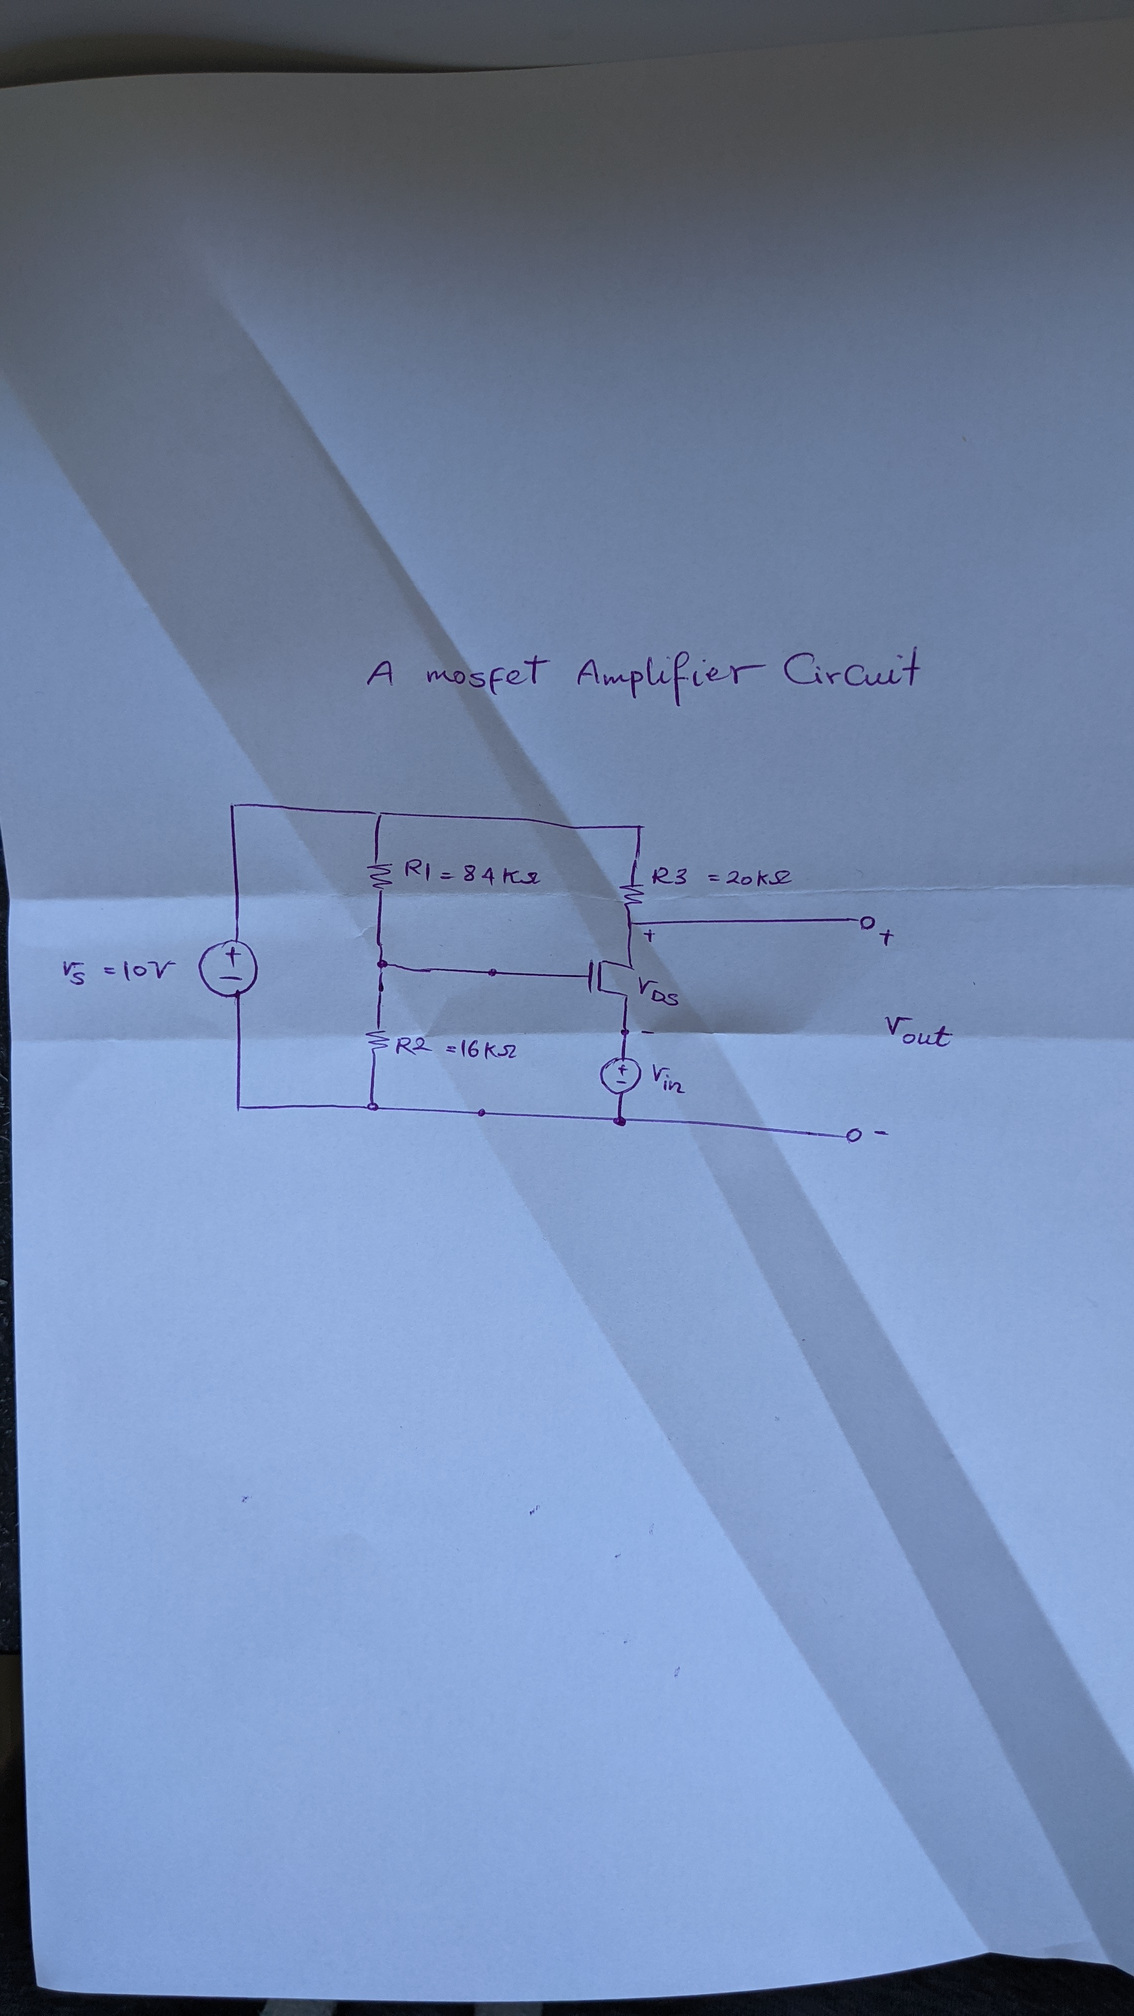junction: (374, 955, 390, 973), (363, 1098, 381, 1115), (611, 1115, 629, 1128), (370, 809, 388, 821), (233, 1101, 246, 1115), (633, 821, 648, 834), (226, 800, 240, 813), (624, 918, 637, 928)
resistor: (366, 858, 397, 894), (363, 1025, 390, 1059), (618, 881, 647, 911)
terminal: (843, 1126, 865, 1145), (854, 912, 876, 932)
text: (364, 642, 925, 708), (402, 857, 543, 889), (58, 957, 179, 987), (649, 865, 793, 890), (393, 1033, 519, 1061), (882, 1014, 955, 1050), (636, 975, 680, 1008), (649, 1061, 688, 1097), (876, 928, 897, 948), (871, 1127, 893, 1141), (641, 928, 658, 944), (640, 1027, 656, 1038)
transistor: (584, 955, 636, 1000)
voltage.dc: (197, 936, 264, 1002), (598, 1055, 644, 1097)
